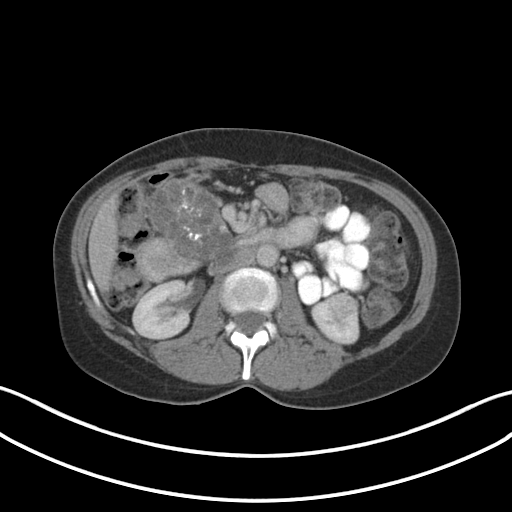Lesion: (325, 293, 360, 321)
